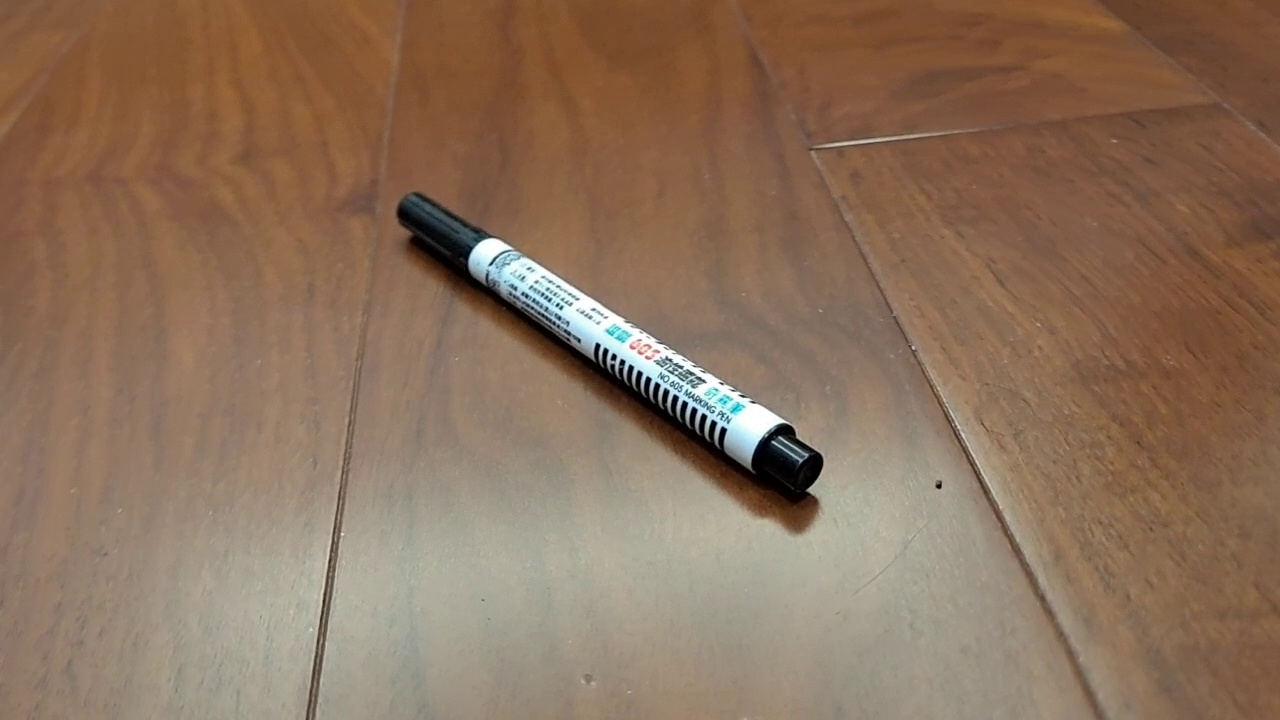pen: (396, 191, 824, 494)
